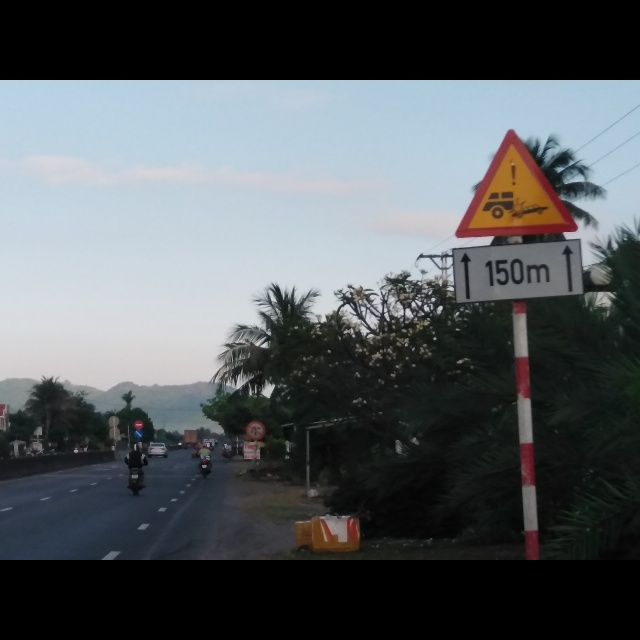Đoạn đường hay xảy ra tai nạn: (452, 126, 576, 238)
